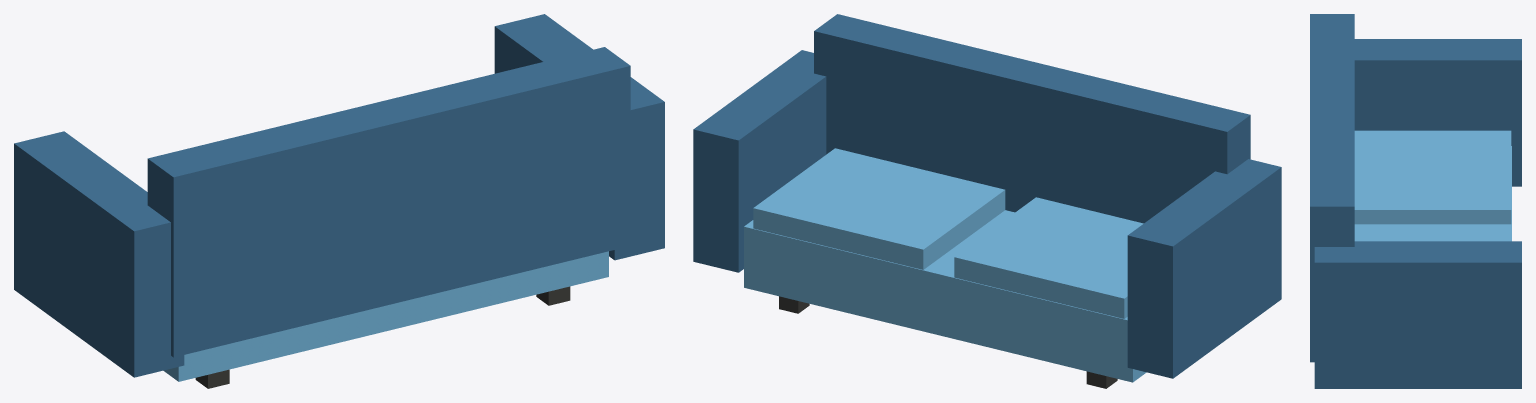
The model's file is couch.glb.
3 views of the same model, side by side, from view 1: azimuth 30°, elevation 25°; view 2: azimuth 150°, elevation 25°; view 3: azimuth 270°, elevation 25° (orthographic). The views are drawn at different scales.
Size of the model in its own units: 2.96 by 1.24 by 1.19.
